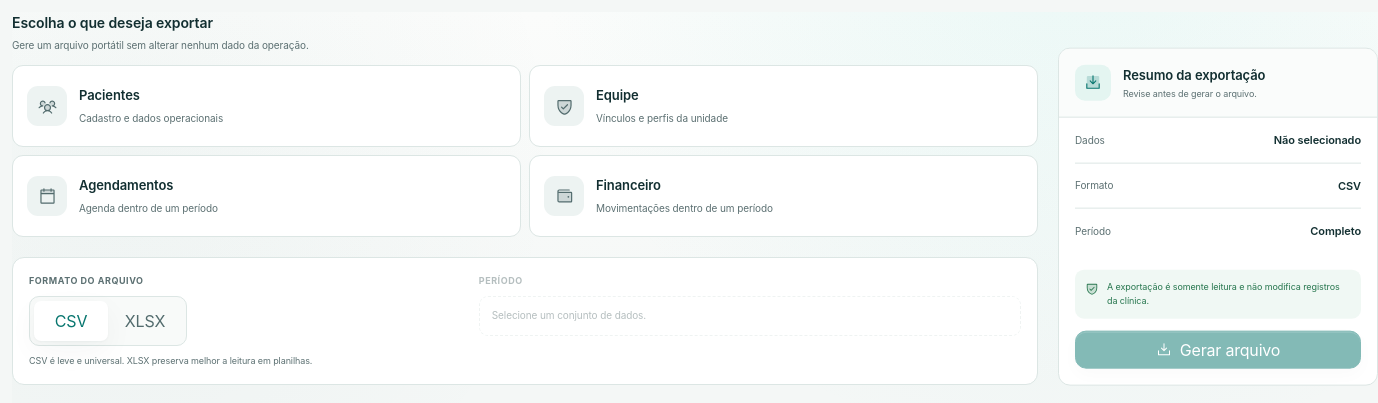
Scenario: ExportarDados › mostra campos de período para agendamentos
Click the radio button labelled "Agendamentos Agenda dentro de um período".
click(47, 196)  # box [12,155,521,237]
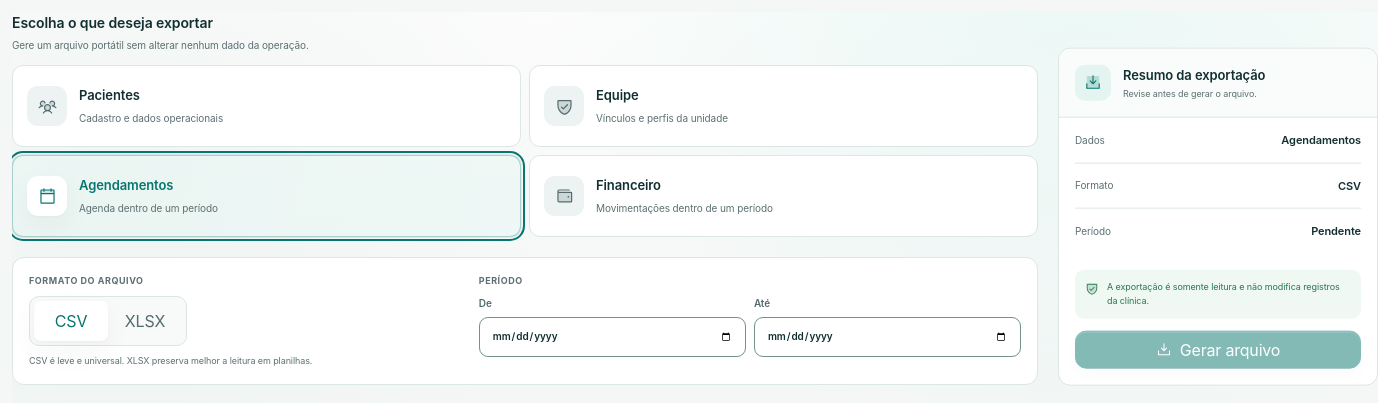
expect the date field labelled "De" is shown: met, box [479,317,746,357]
expect the date field labelled "Até" is shown: met, box [754,317,1021,357]
